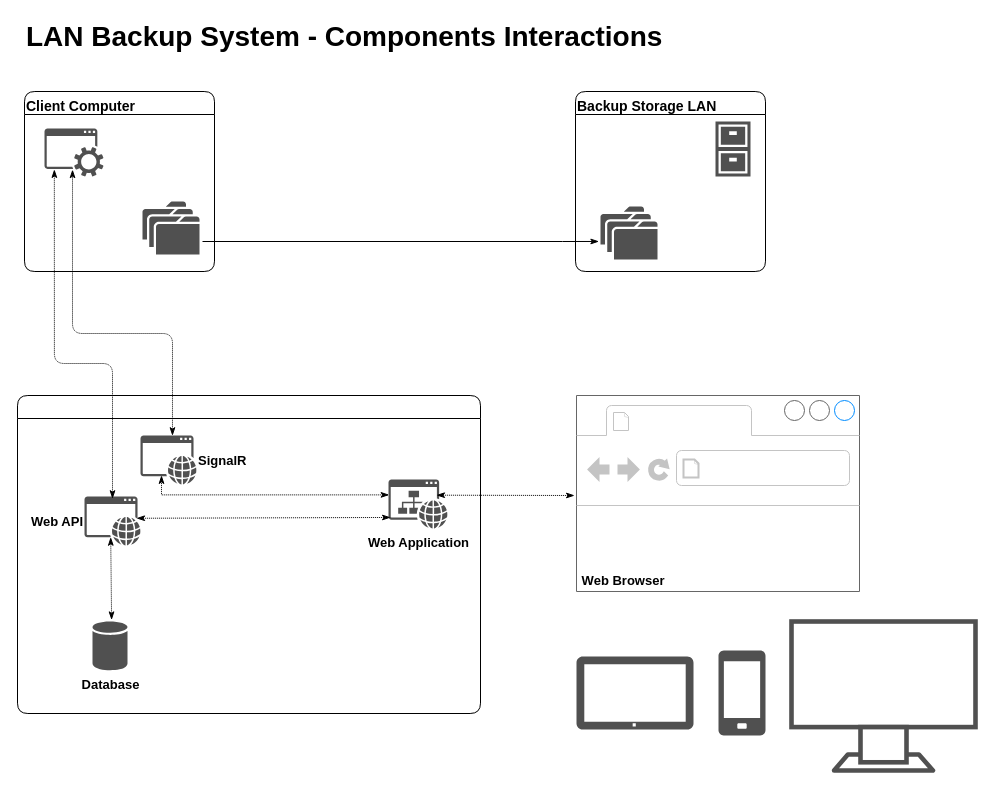
This 994x788 diagram has some shape labels left out. The shapes that lost their labels are listed below. From the top down, each one's centre as x and y in pixels, then its label:
At [73,152]: "Backup Agent".
At [691,420]: "Page 1".
At [831,468]: "http:\\lanbackup.local".
At [248,554]: "Web and DB Server".
